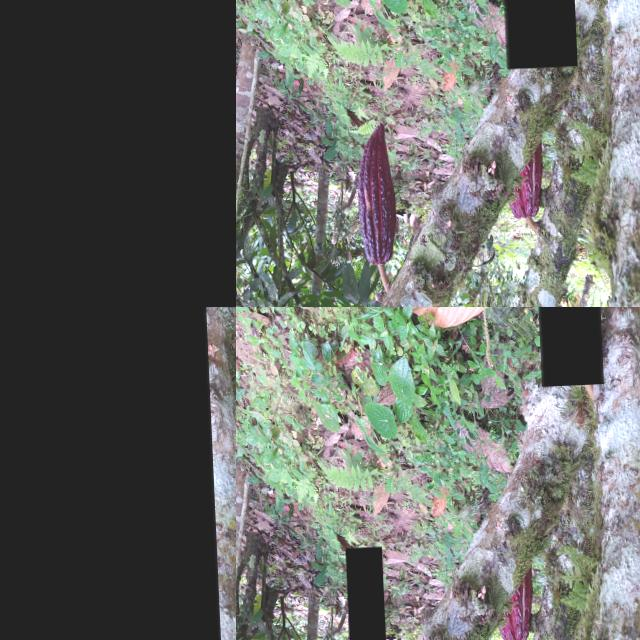Fitoftora: (69, 0, 236, 307)
Sana: (0, 307, 217, 640), (0, 0, 87, 307), (534, 307, 601, 391), (498, 0, 574, 72), (342, 549, 383, 640), (492, 563, 530, 640), (321, 3, 331, 38), (583, 254, 594, 280)
